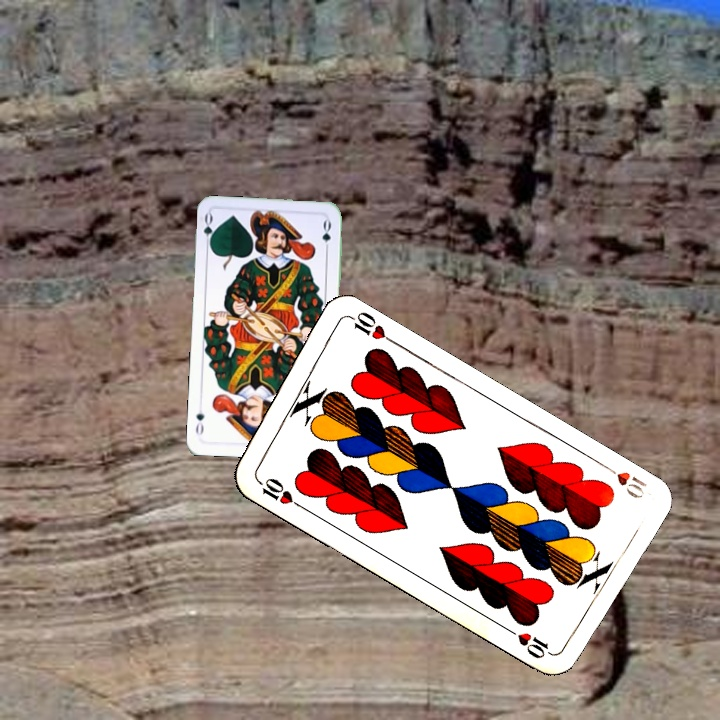GO: (200, 210, 217, 251)
H10: (597, 459, 649, 502), (251, 473, 304, 510)
